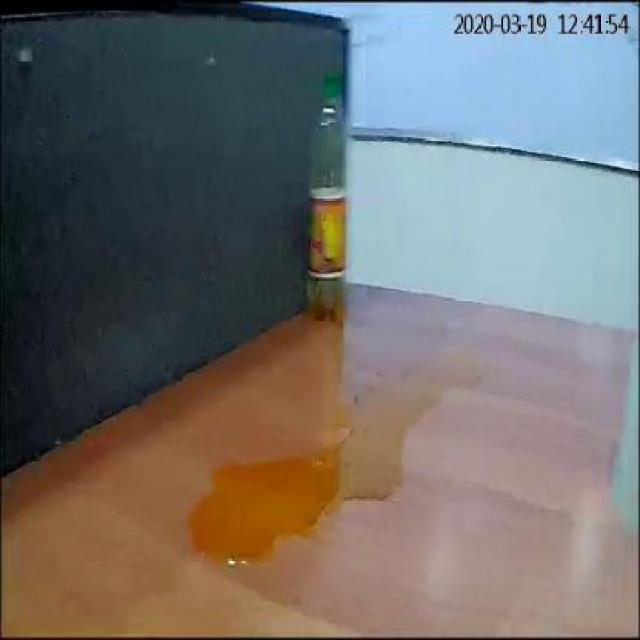spill: (188, 358, 486, 562)
